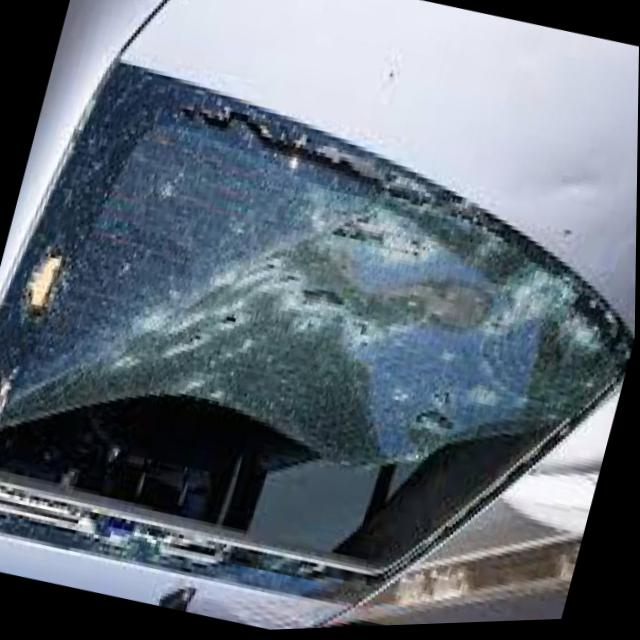Glass_Break: (0, 147, 638, 632)
